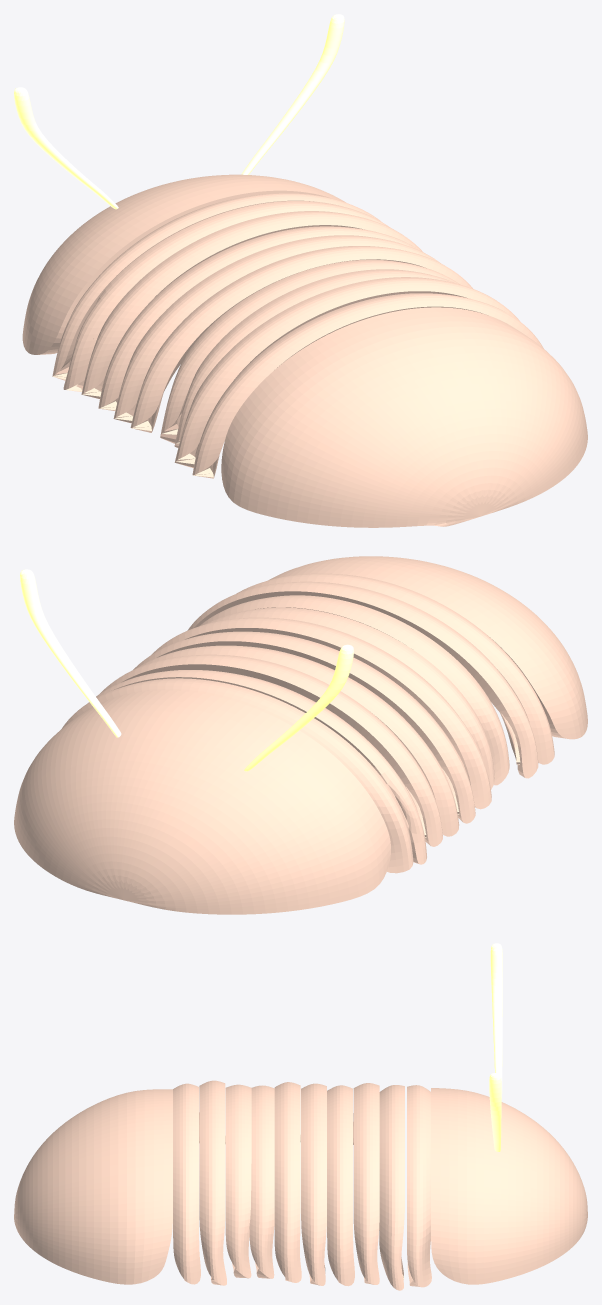
Rendered from pill-LHVUYP1i.glb.
3 renders of one model, top to bottom at view 1: azimuth 30°, elevation 25°; view 2: azimuth 150°, elevation 25°; view 3: azimuth 270°, elevation 25°, orthographic. The views are drawn at different scales.
Visible parts, largest first — view 1: pillbug, antenna2, antenna1; view 2: pillbug, antenna2, antenna1; view 3: pillbug, antenna1, antenna2.
Part boxes in pixels (box(x1,y1,x2,y2)): pillbug: box(22, 174, 587, 527); antenna2: box(241, 14, 344, 174); antenna1: box(14, 87, 118, 209); pillbug: box(14, 556, 587, 914); antenna2: box(20, 569, 121, 737); antenna1: box(244, 644, 353, 771); pillbug: box(14, 1080, 587, 1290); antenna1: box(490, 943, 502, 1098); antenna2: box(489, 1073, 501, 1151).
Bounding box in the file's own units: 1.94 × 1.33 × 3.24.
